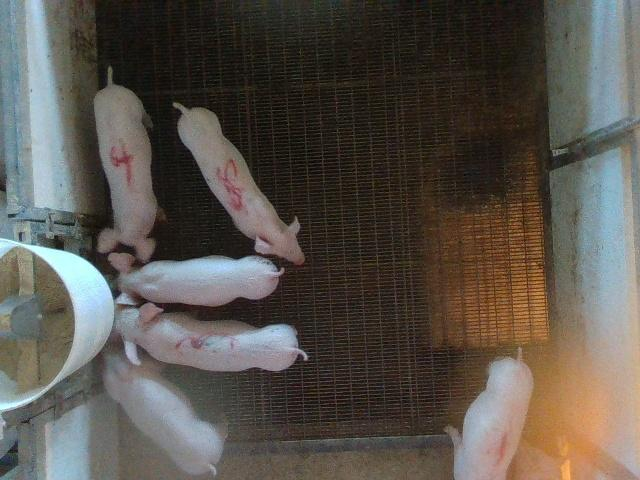pig-1: (455, 358, 534, 479)
pig-3: (114, 302, 308, 371)
pig-4: (94, 68, 158, 263)
pig-5: (174, 102, 305, 264)
